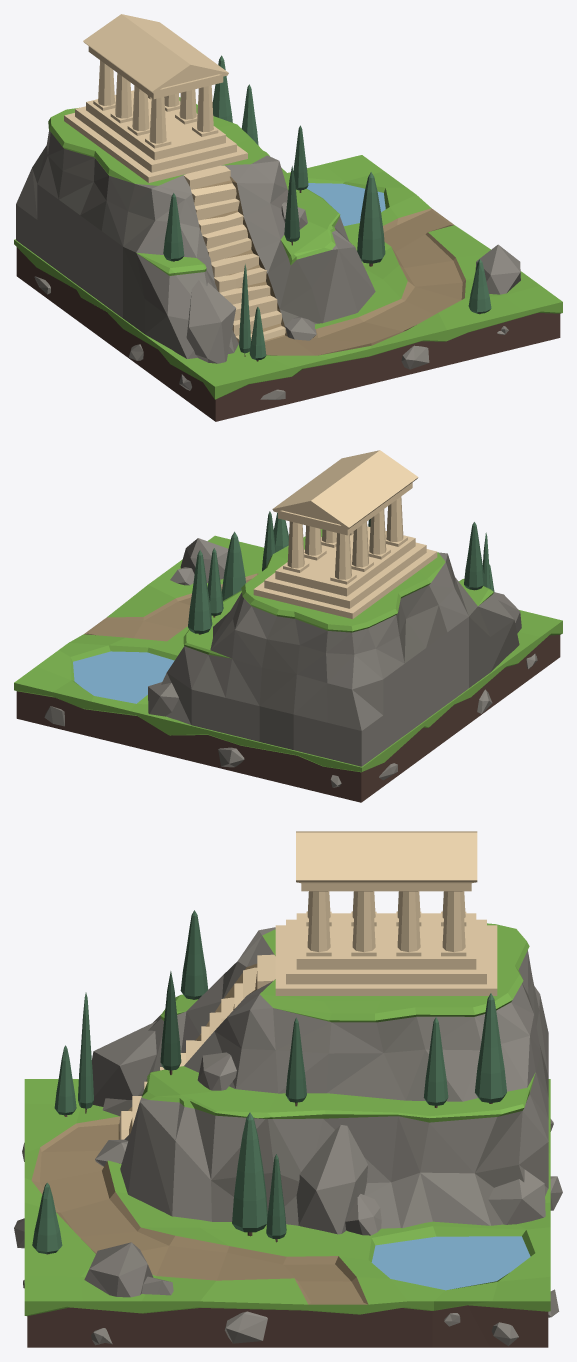
Rendered from temple_scene.fbx.
3 renders of one model, top to bottom at view 1: azimuth 30°, elevation 25°; view 2: azimuth 150°, elevation 25°; view 3: azimuth 270°, elevation 25°, orthographic. The views are drawn at different scales.
Parts seen in each view (by area): view 1: Base, Hill, Temple, Cypresses, Stairs, Rocks; view 2: Hill, Base, Temple, Cypresses, Rocks; view 3: Hill, Base, Temple, Rocks, Cypresses, Stairs.
Boxes of the visible parts, x1=… form: Base: x1=14, y1=155, x2=562, y2=421; Hill: x1=16, y1=97, x2=375, y2=358; Temple: x1=64, y1=14, x2=247, y2=182; Cypresses: x1=163, y1=55, x2=491, y2=361; Stairs: x1=183, y1=165, x2=285, y2=343; Rocks: x1=34, y1=202, x2=520, y2=399; Hill: x1=161, y1=529, x2=519, y2=766; Base: x1=14, y1=535, x2=562, y2=802; Temple: x1=253, y1=450, x2=437, y2=619; Cypresses: x1=188, y1=511, x2=494, y2=634; Rocks: x1=44, y1=538, x2=537, y2=787; Hill: x1=102, y1=923, x2=548, y2=1228; Base: x1=24, y1=1079, x2=550, y2=1347; Temple: x1=275, y1=831, x2=497, y2=995; Rocks: x1=14, y1=1021, x2=562, y2=1346; Cypresses: x1=32, y1=910, x2=506, y2=1254; Stairs: x1=119, y1=954, x2=275, y2=1139.
Bounding box in the file's own units: 1040 × 723 × 1044.
